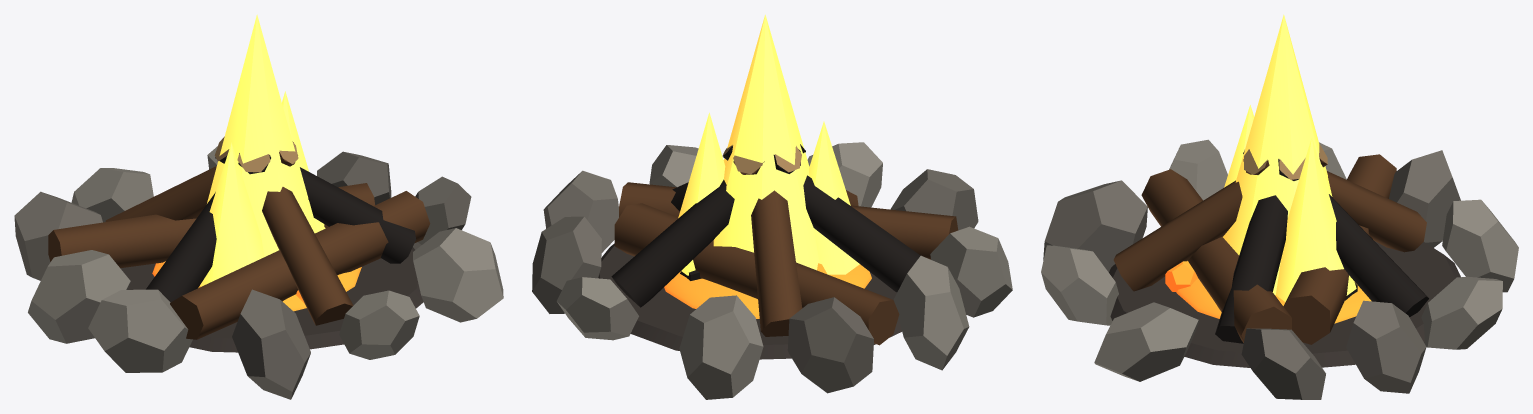
The model's file is fire01.glb.
3 renders of one model, left to right at view 1: azimuth 30°, elevation 25°; view 2: azimuth 150°, elevation 25°; view 3: azimuth 270°, elevation 25°, orthographic. The views are drawn at different scales.
Parts seen in each view (by area): view 1: body; view 2: body; view 3: body.
Part boxes in pixels (left/top/right/bottom): body: left=14, top=14, right=503, bottom=399; body: left=532, top=14, right=1012, bottom=399; body: left=1041, top=14, right=1518, bottom=399.
Size of the model in its own units: 0.9142 by 0.6094 by 0.8544.
